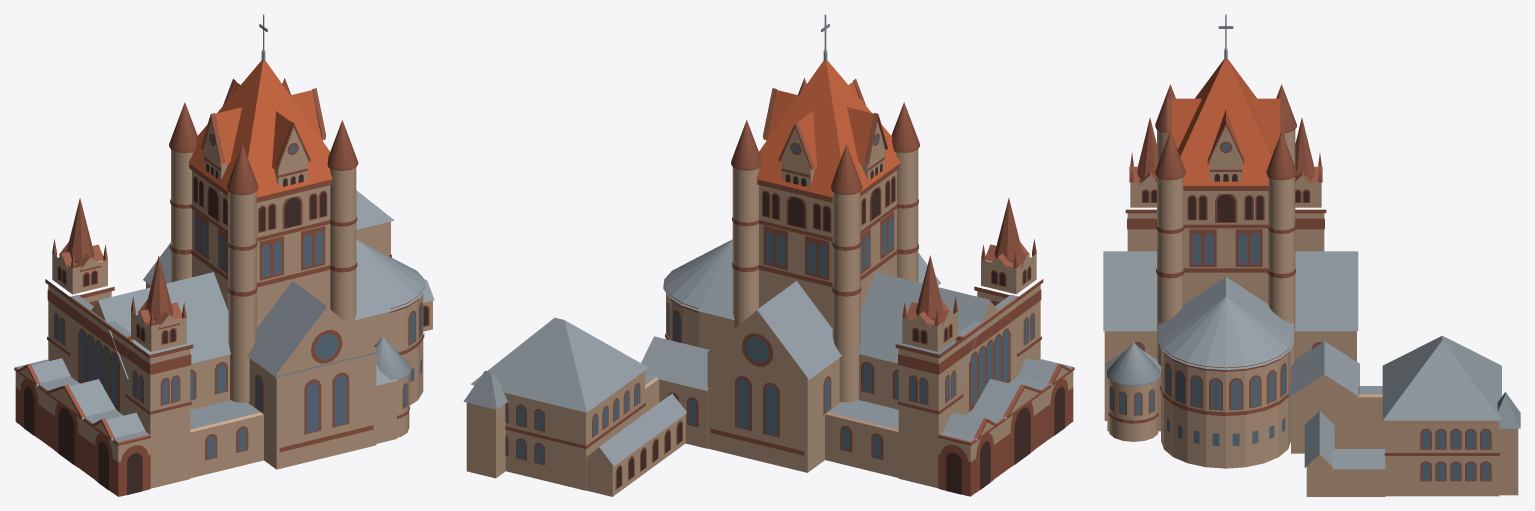
Rendered from bos-trinity-church.glb.
The picture shows the model from 3 angles, left to right: view 1: azimuth 30°, elevation 25°; view 2: azimuth 150°, elevation 25°; view 3: azimuth 270°, elevation 25°; orthographic projection. The views are drawn at different scales.
Visible parts, largest first — view 1: Trinity Church; view 2: Trinity Church; view 3: Trinity Church.
Part boxes in pixels (left/top/right/bottom): Trinity Church: left=14, top=14, right=434, bottom=496; Trinity Church: left=463, top=14, right=1074, bottom=496; Trinity Church: left=1103, top=14, right=1520, bottom=496.
Size of the model in its own units: 67.75 by 62.4 by 61.55.
